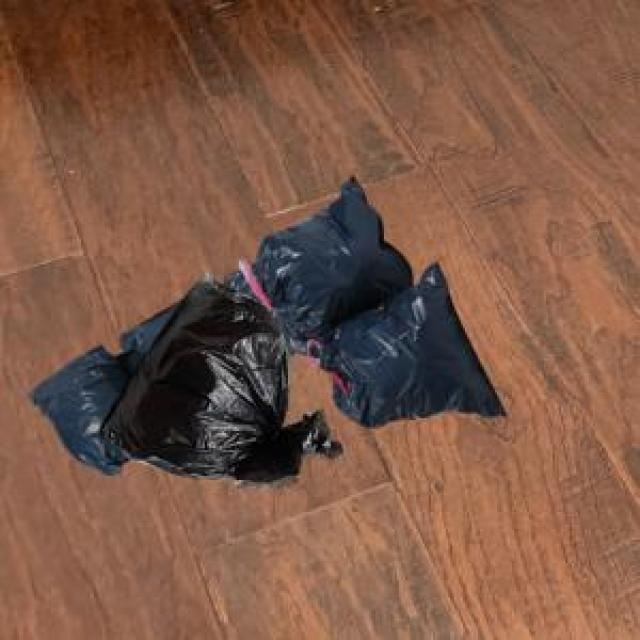Vinyl: (98, 264, 322, 488), (326, 278, 504, 431), (256, 178, 410, 332), (34, 342, 144, 474)
